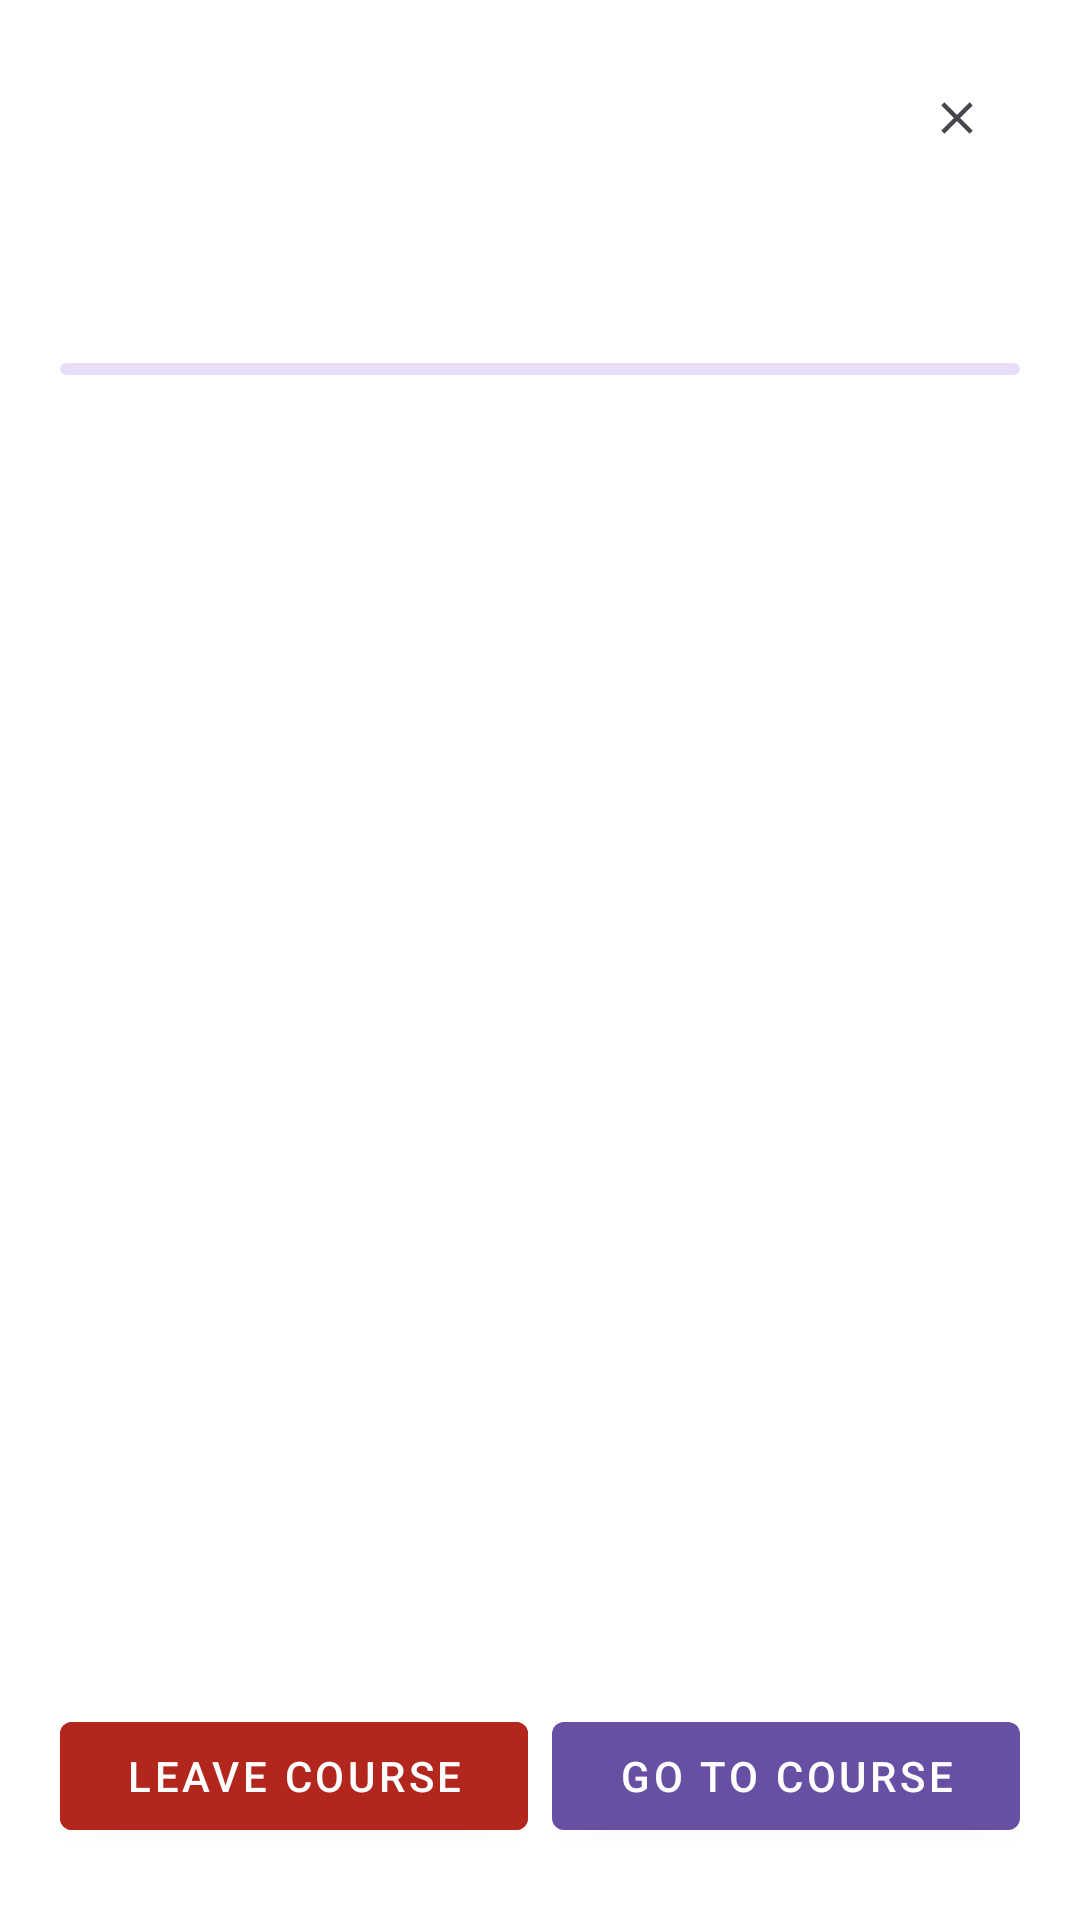

Icon bounding boxes for this 1080w x 1920h phone screenshot, format (x1, y1, x2, y2):
Close: (941, 102, 973, 134)
